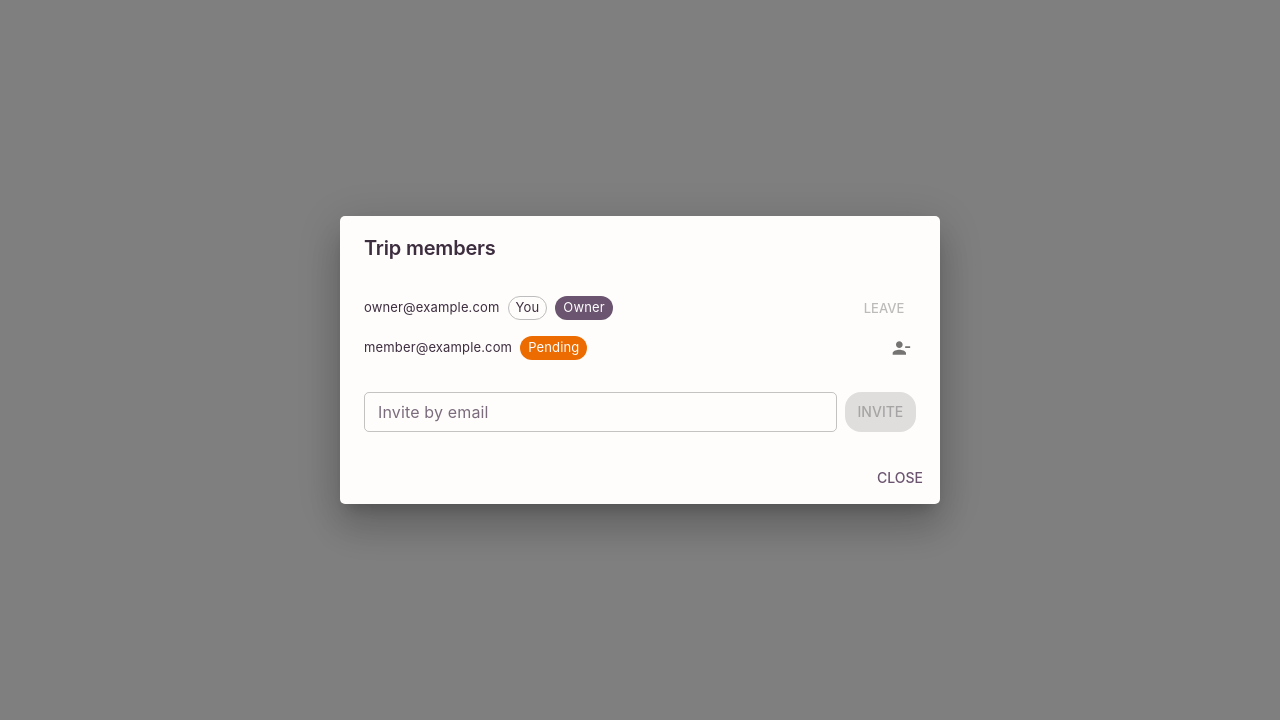
Test: TripMembersDialog › shows an already-member message without treating it as an error
Type "member@example.com" into the field labelled "Invite by email".
click(600, 412); type("member@example.com")  # box [364, 392, 837, 432]
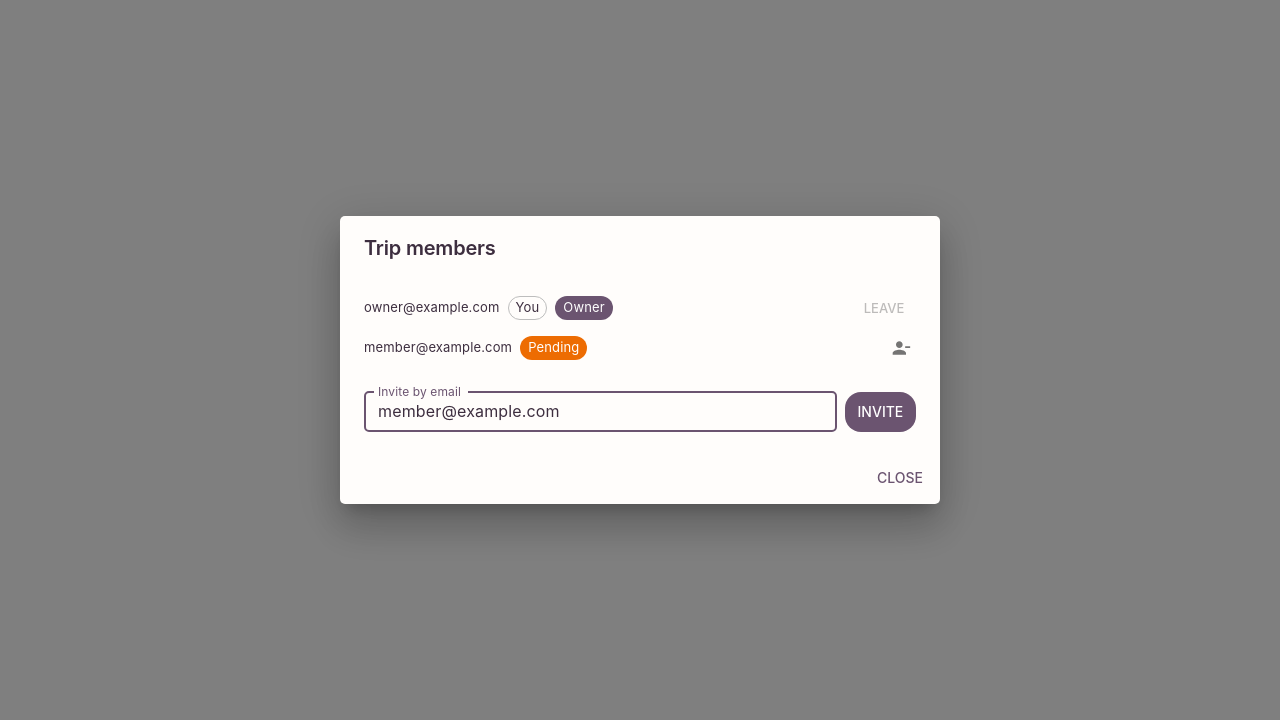
Click the button "Invite".
click(880, 412)  # box [845, 392, 916, 432]
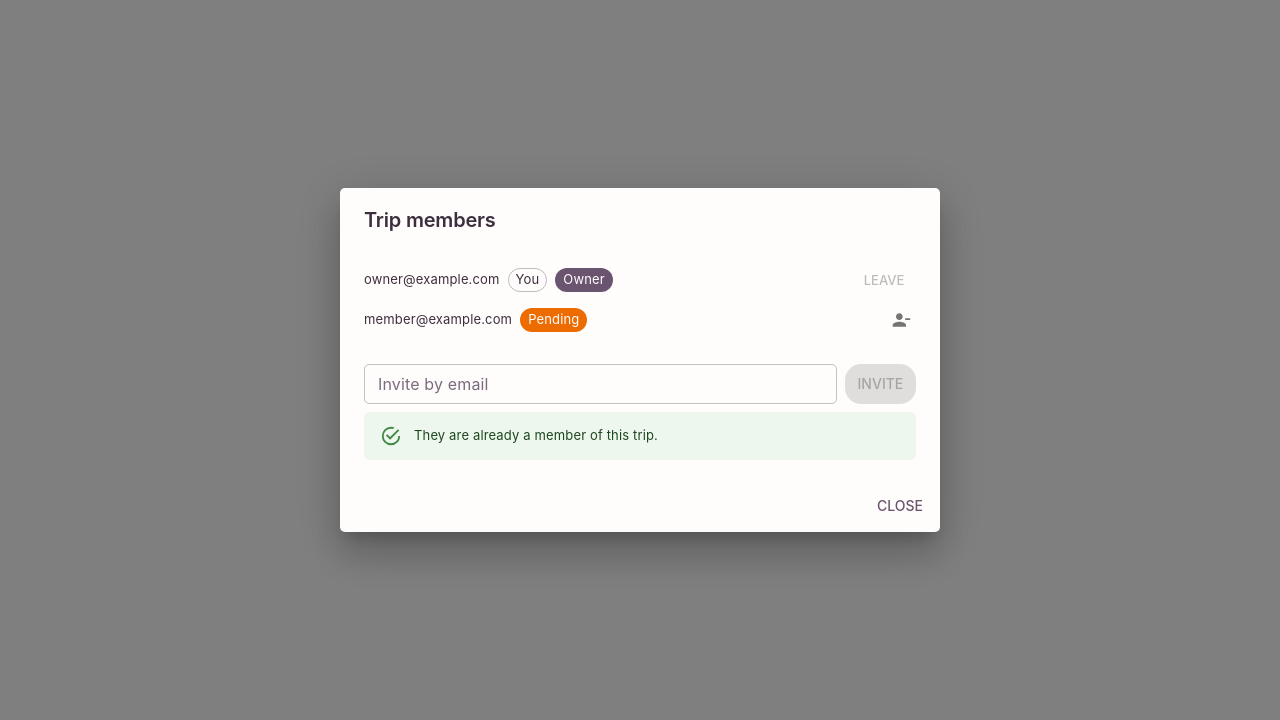
Result: the text "They are already a member of this trip." is shown at [414, 427, 658, 443]
